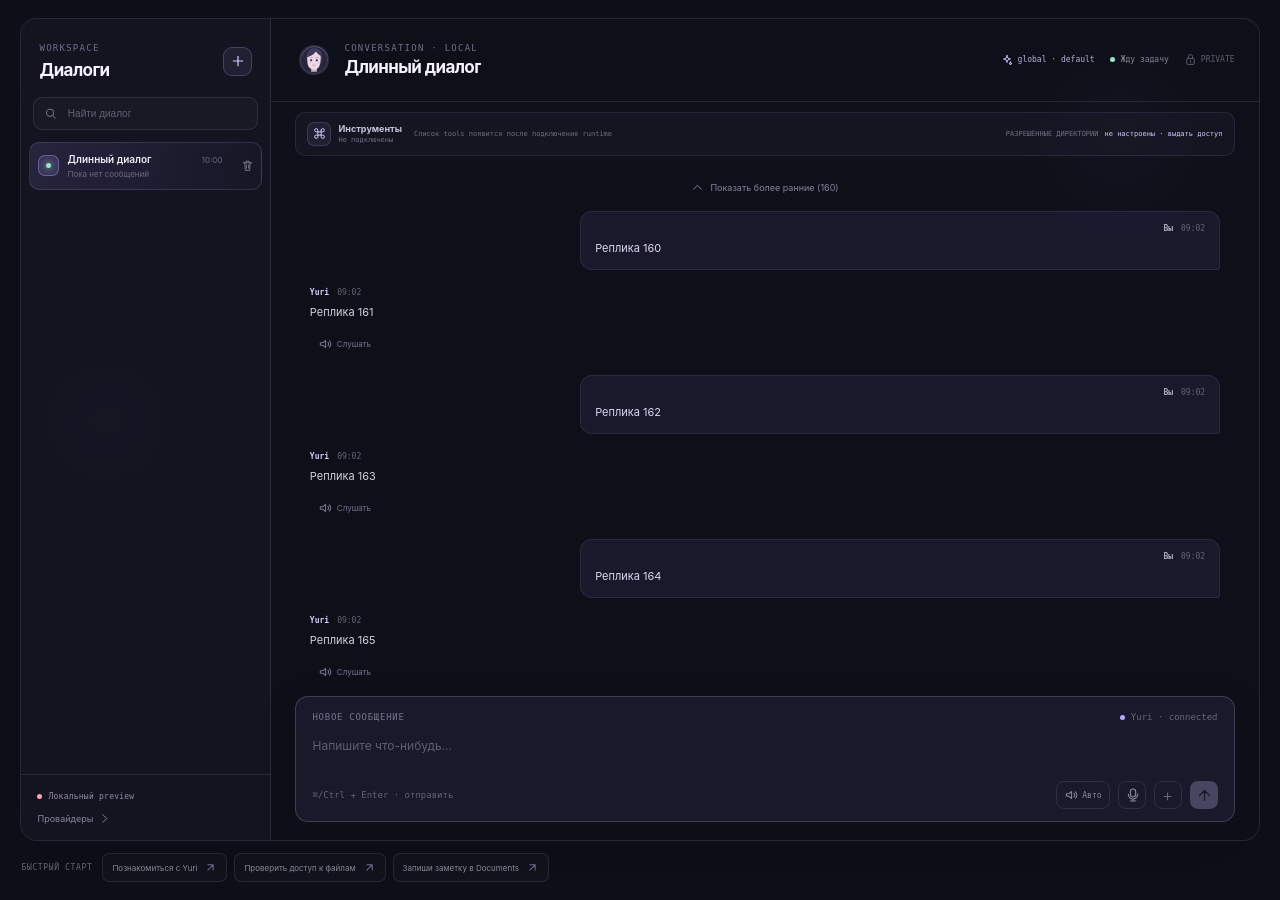
it: a long conversation opens windowed (H-18) › uncovers the previous window on demand, one step at a time
Check: the text box named "Сообщение Yuri" is shown, box [312,722,1218,781]
Click the button "Показать более ранние (160)": x=765, y=187 [691,181,839,194]
(page scrolled)
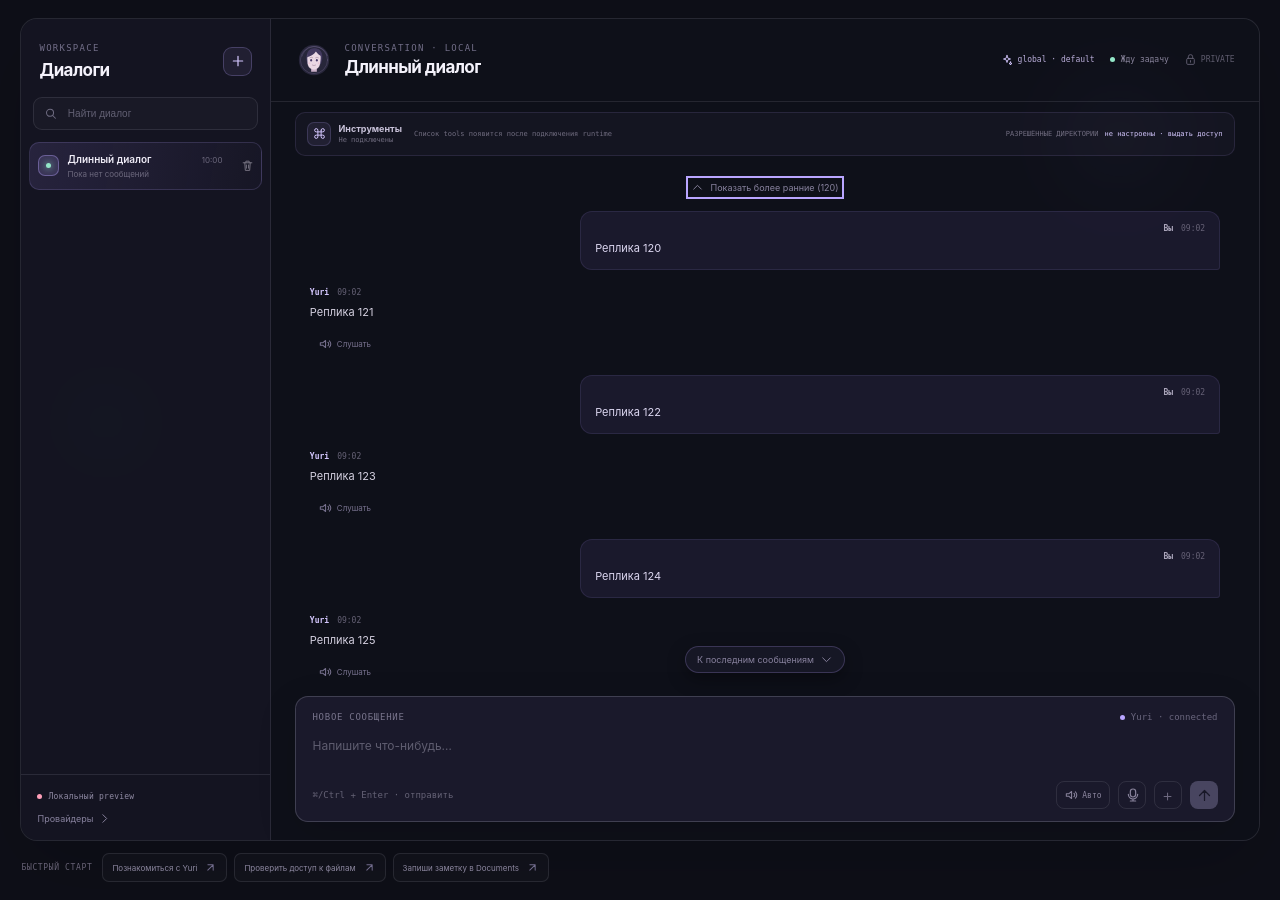
Check: the text with class "message__content" reads "Реплика 120", box [595,241,661,255]
Check: the button "Показать более ранние (120)" is shown
Click the button "Показать более ранние (120)": x=765, y=187 [692,181,839,194]
(page scrolled)
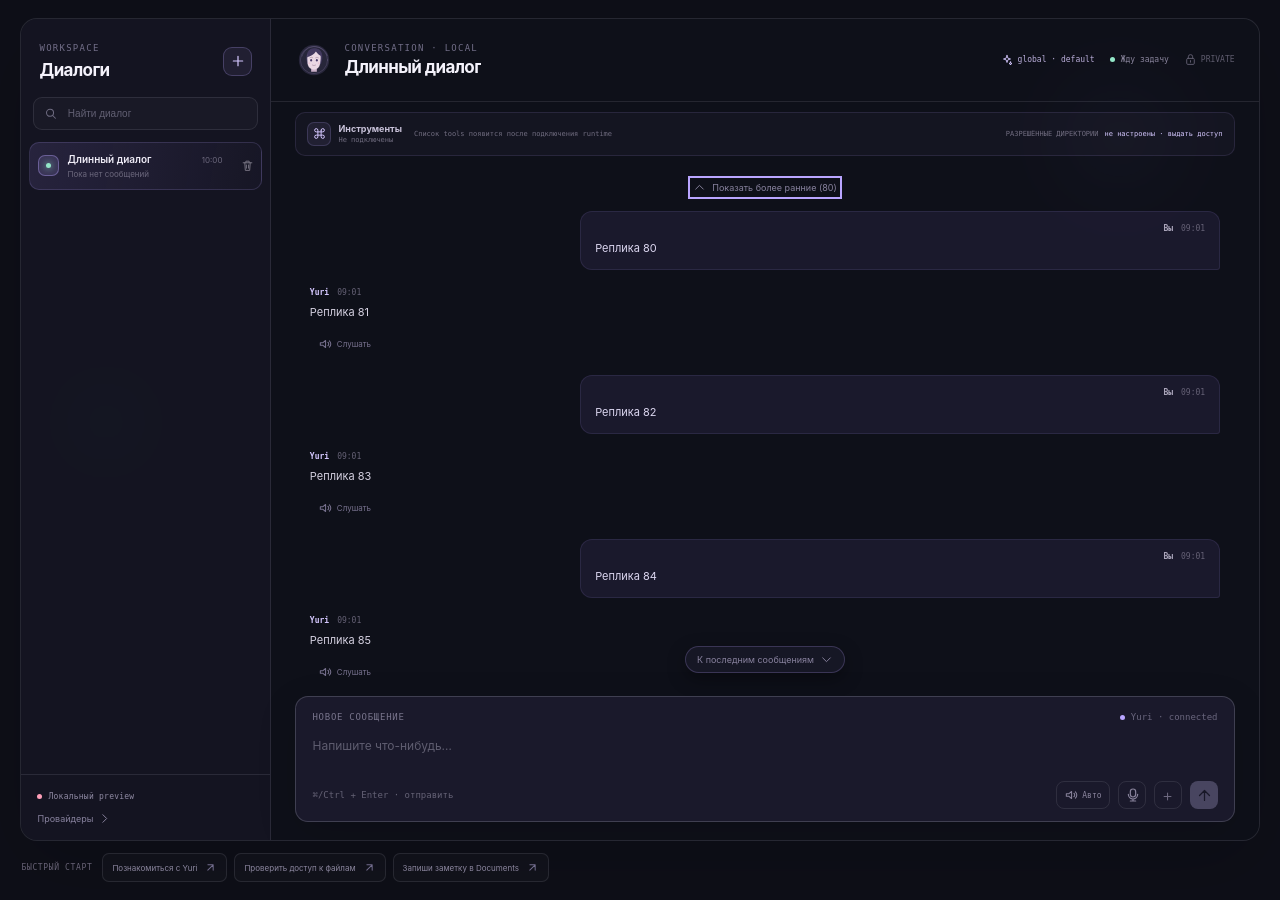
Click the button "Показать более ранние (80)": x=765, y=187 [693,181,837,194]
(page scrolled)
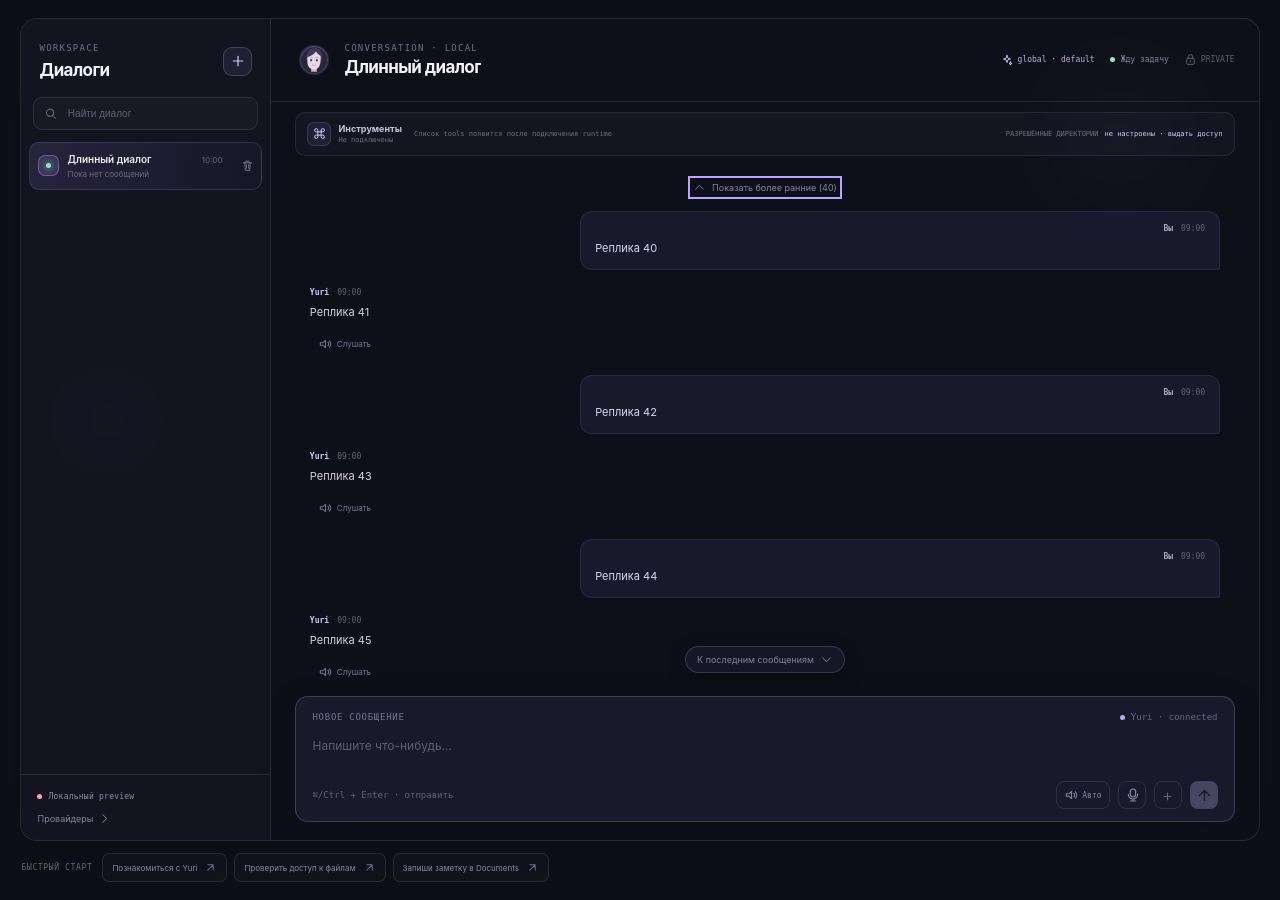
Click the button "Показать более ранние (40)": x=765, y=187 [693,181,837,194]
(page scrolled)
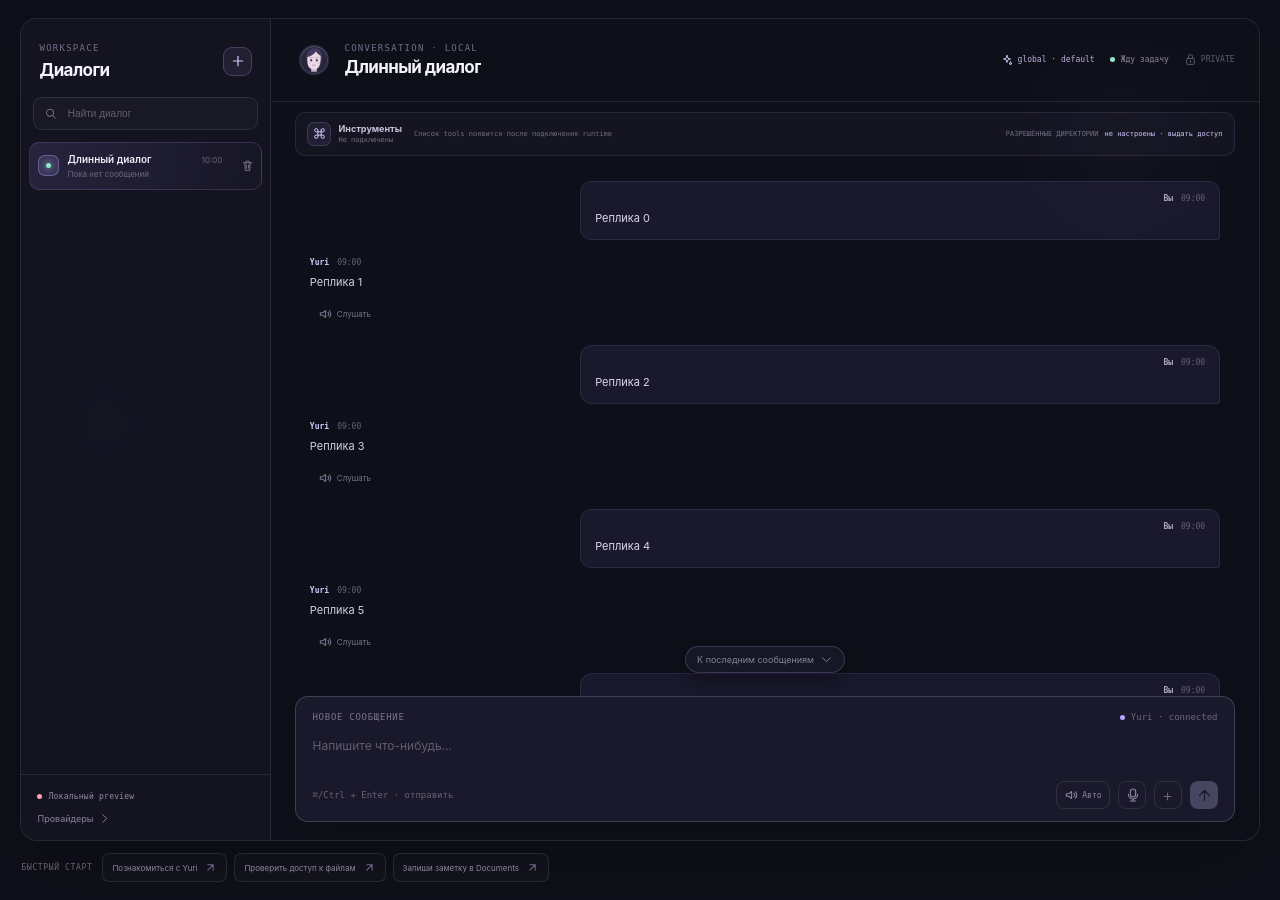
Check: the text "Реплика 0" is shown, box [595,211,650,225]
Check: the button "Показать более ранние" is gone
